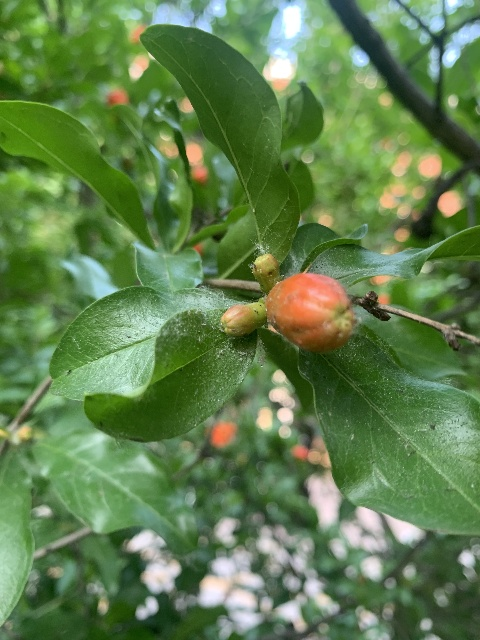bud: (266, 273, 356, 353), (219, 303, 268, 337), (252, 253, 279, 293)
